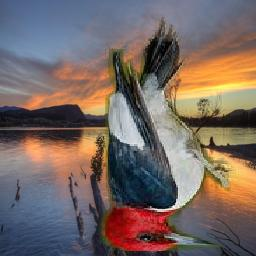Woodpecker: (94, 15, 241, 251)
